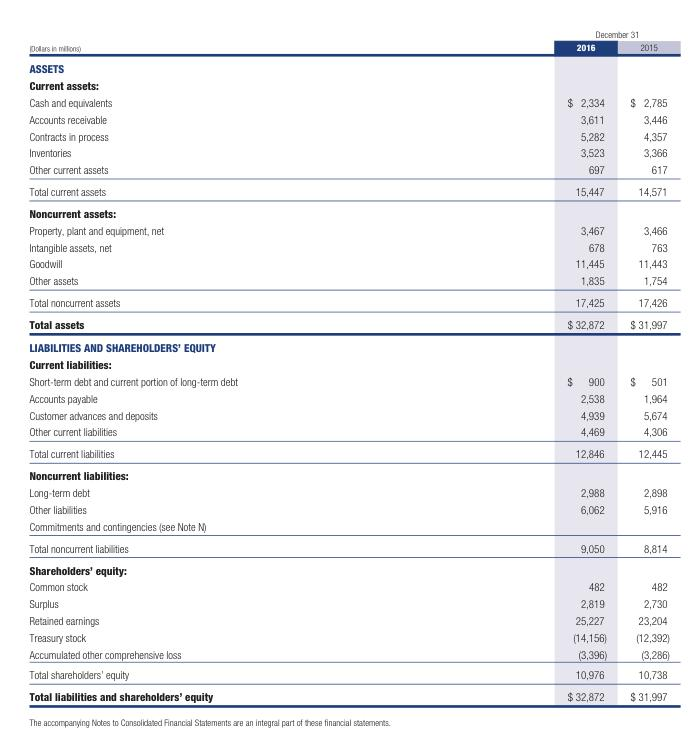table: (28, 29, 669, 702)
table column: (28, 29, 401, 702), (401, 29, 617, 702), (617, 29, 669, 702)
table column header: (28, 29, 669, 57)
table projected row header: (28, 201, 669, 221), (28, 335, 669, 355), (28, 558, 669, 578), (28, 57, 669, 76), (28, 464, 669, 483), (28, 517, 669, 536), (28, 76, 669, 93), (28, 355, 669, 372)
table row: (28, 312, 669, 335), (28, 442, 669, 464), (28, 536, 669, 558), (28, 180, 669, 201), (28, 291, 669, 312), (28, 664, 669, 685), (28, 160, 669, 180), (28, 201, 669, 221), (28, 271, 669, 291), (28, 335, 669, 355), (28, 558, 669, 578), (28, 57, 669, 76), (28, 423, 669, 442), (28, 464, 669, 483), (28, 517, 669, 536), (28, 645, 669, 664), (28, 40, 669, 57), (28, 76, 669, 93), (28, 93, 669, 110), (28, 110, 669, 127), (28, 143, 669, 160), (28, 221, 669, 238), (28, 238, 669, 255), (28, 355, 669, 372), (28, 372, 669, 389), (28, 389, 669, 406), (28, 406, 669, 423), (28, 483, 669, 500), (28, 500, 669, 517), (28, 594, 669, 611), (28, 611, 669, 628), (28, 628, 669, 645), (28, 685, 669, 702), (28, 127, 669, 143), (28, 255, 669, 271), (28, 578, 669, 594), (28, 29, 669, 40)
table spanning cell: (28, 29, 401, 57), (401, 29, 669, 40)
